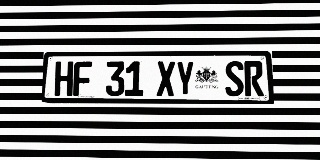1: (125, 61, 143, 96)
3: (106, 61, 125, 96)
F: (73, 61, 92, 96)
H: (54, 61, 73, 96)
R: (244, 61, 264, 96)
S: (225, 61, 244, 96)
X: (157, 61, 175, 96)
Y: (176, 61, 194, 96)
